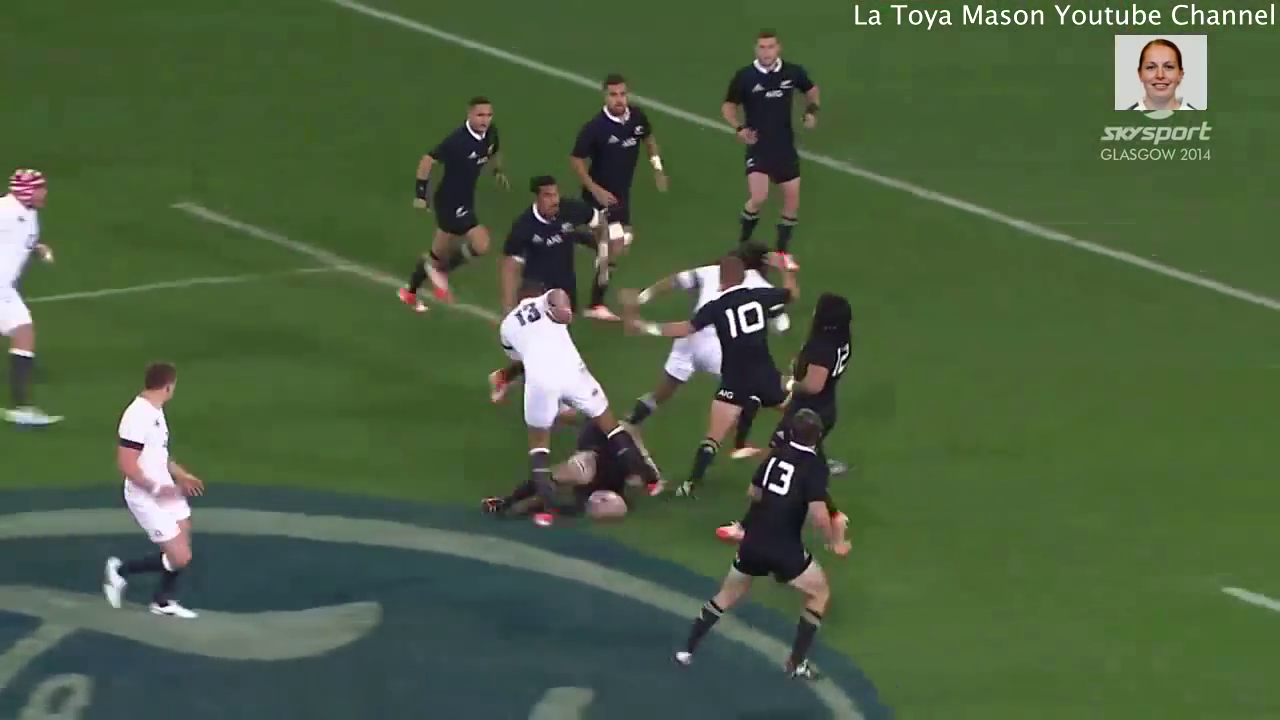player: (661, 412, 845, 683), (92, 360, 215, 625), (665, 254, 784, 504), (497, 294, 617, 533), (390, 92, 504, 317), (721, 31, 823, 265), (565, 72, 672, 244), (1, 160, 68, 432), (493, 179, 589, 304), (775, 292, 861, 411)
